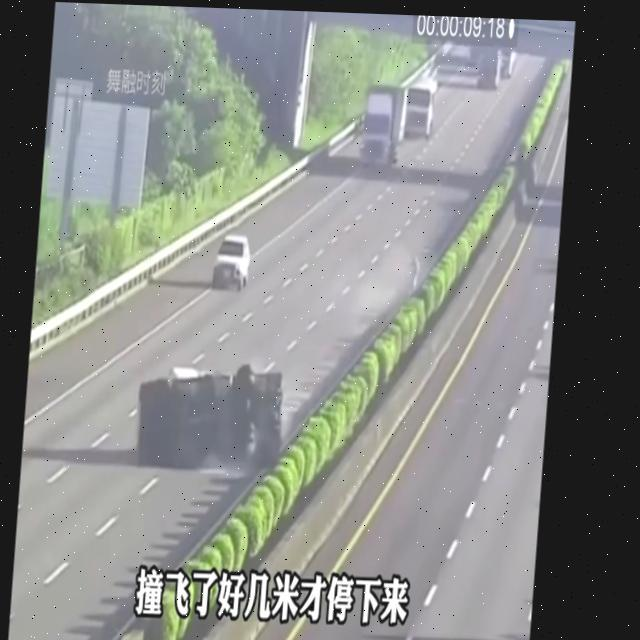normal: (347, 50, 434, 181), (207, 216, 262, 298)
single accident: (90, 353, 334, 494)
